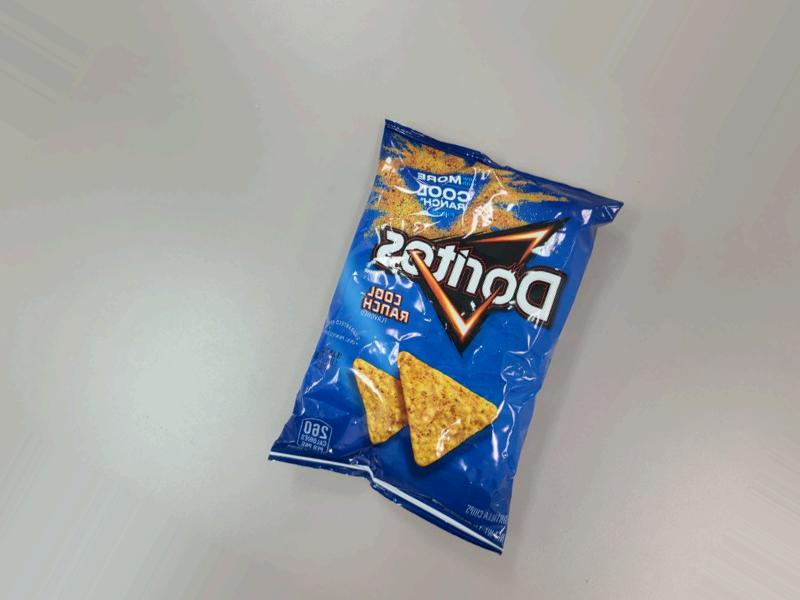doritos: (268, 121, 617, 575)
